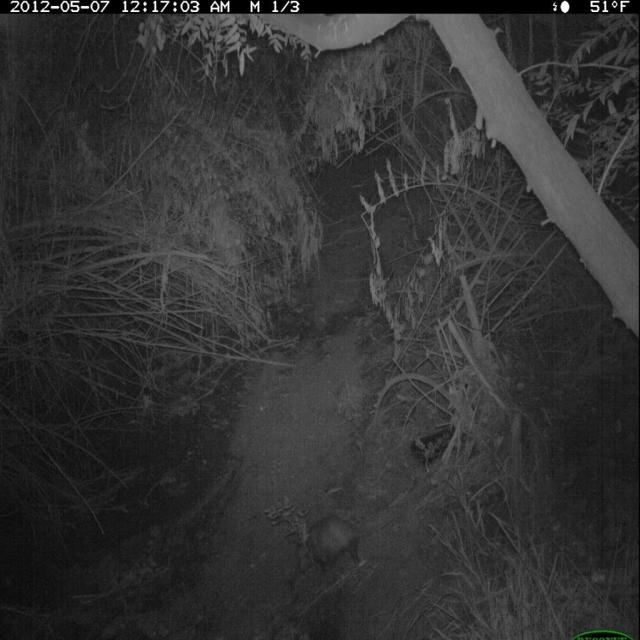opossum: (296, 510, 415, 574)
